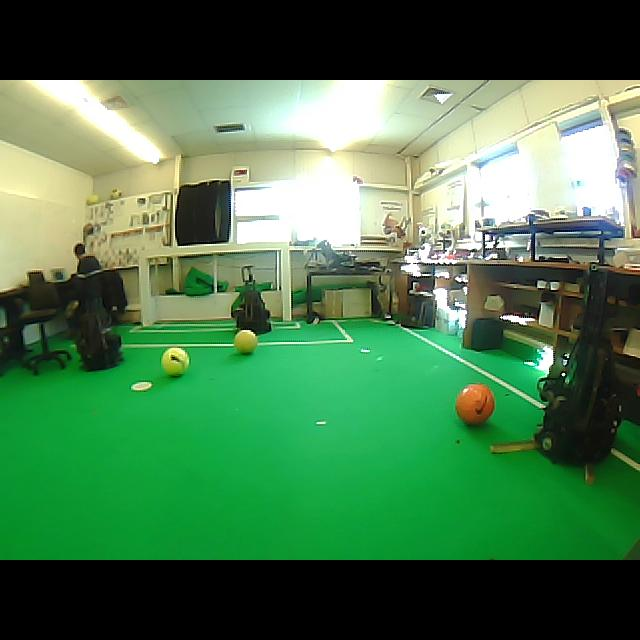ball: (456, 383, 494, 424), (161, 348, 189, 376), (234, 330, 257, 354), (86, 194, 100, 204), (110, 189, 122, 198)
goal: (280, 242, 291, 320), (140, 258, 151, 325)
robot: (535, 270, 621, 464), (76, 299, 124, 371), (232, 266, 270, 334)
